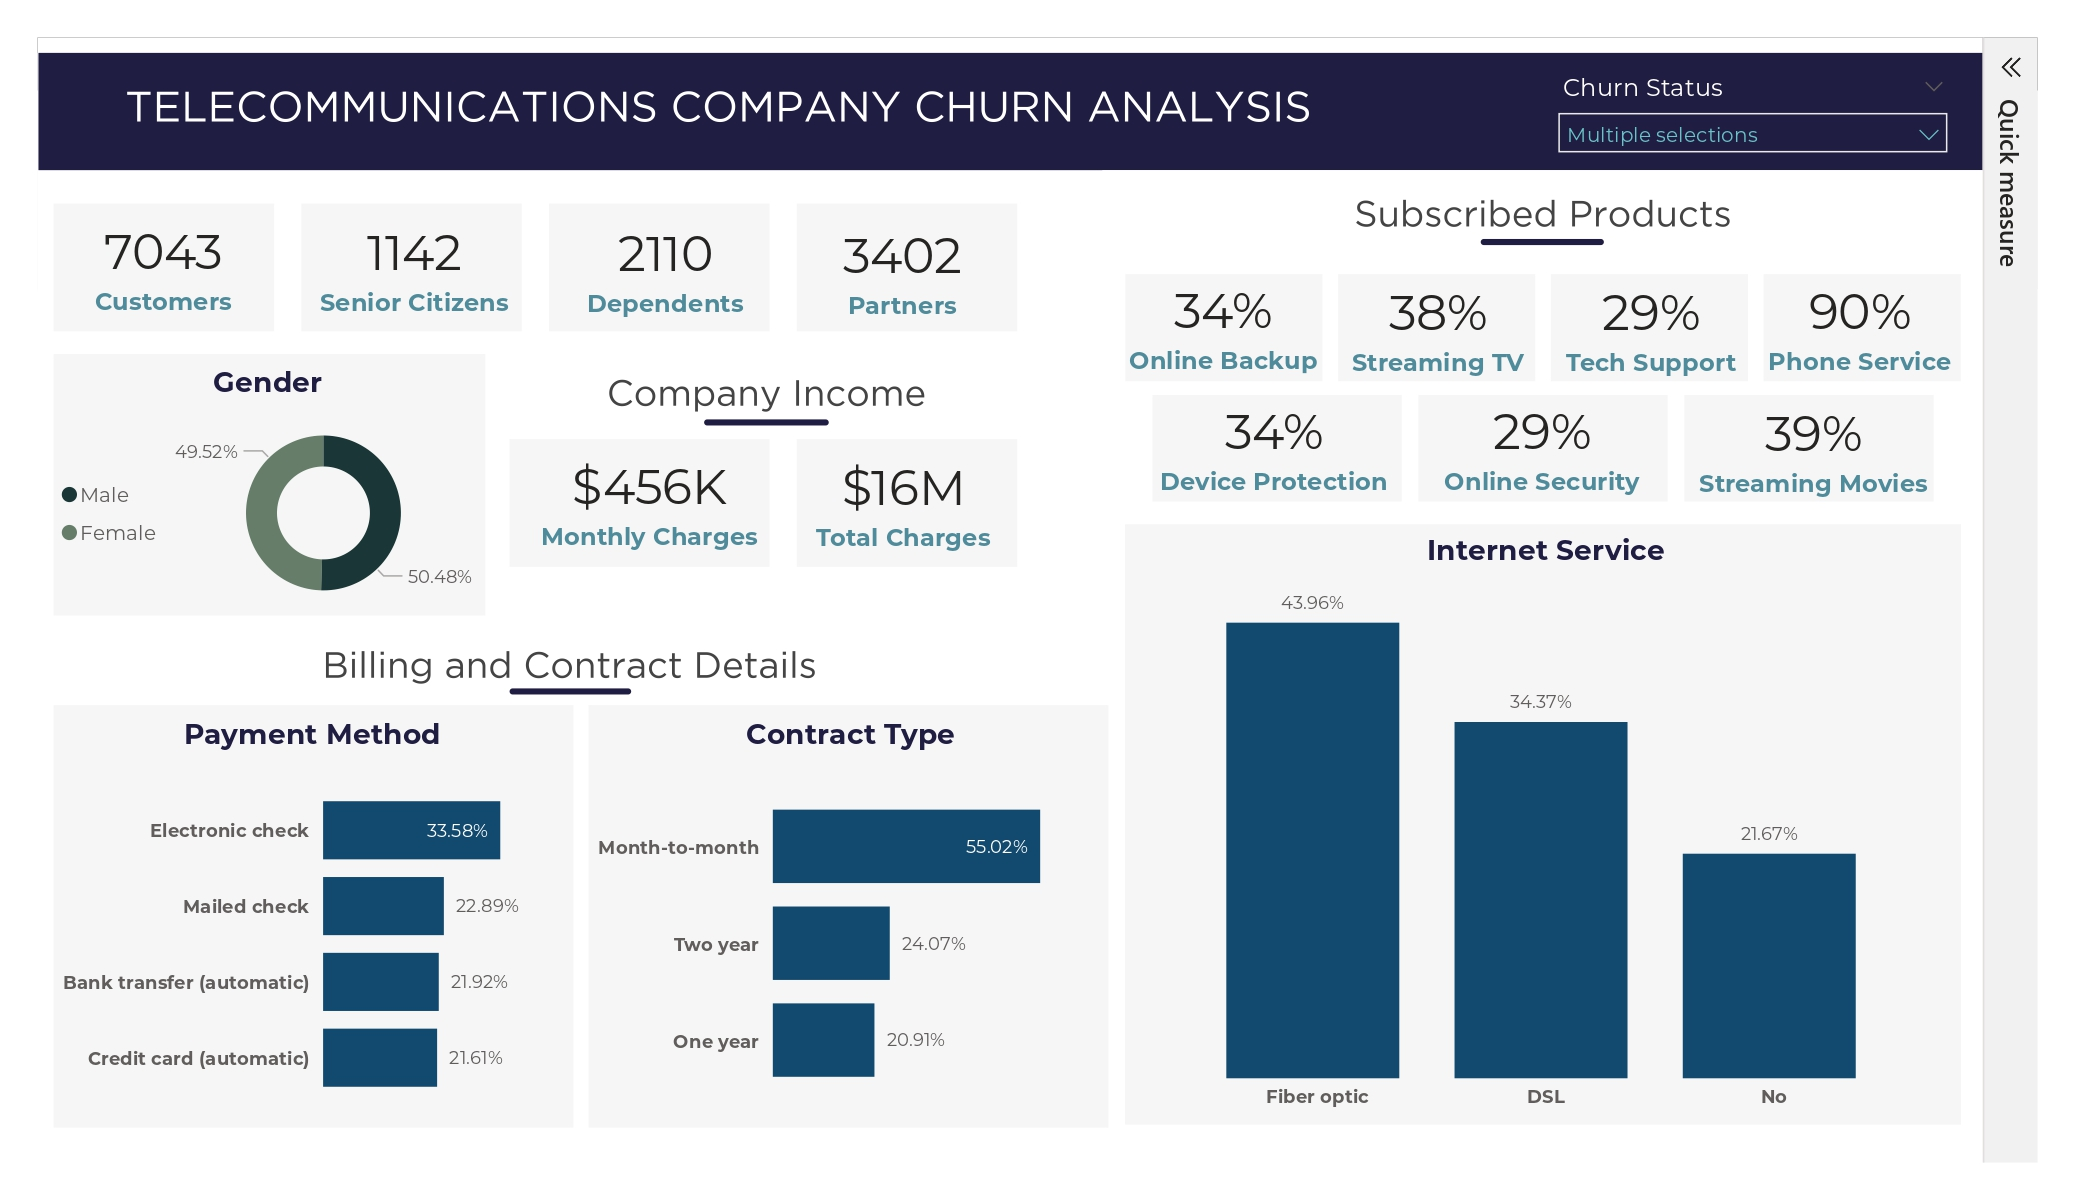

Layout of this report page (visuals, bound fields, positions):
{"tool":"powerbi","page":{"name":"Page 1","canvas":[1280,720],"ordinal":0},"visuals":[{"type":"card","fields":{"Values":["CountNonNull(Table1.customerID)"]},"box":[11.9,98.2,142.9,83.3],"z":0},{"type":"card","fields":{"Values":["Table1.Count of SeniorCitizen for true"]},"box":[172.9,97.8,150.2,85],"z":1000},{"type":"donutChart","title":"Gender","fields":{"Y":["CountNonNull(Table1.gender)"],"Category":["Table1.gender"]},"box":[9.9,198.4,283.5,178.6],"z":2000},{"type":"card","fields":{"Values":["Table1.%OnlineBackup"]},"box":[712.9,141.7,134.6,73.7],"z":4000},{"type":"card","fields":{"Values":["Table1.%OnlineSecurity"]},"box":[928.3,219.7,153.1,76.5],"z":5000},{"type":"card","fields":{"Values":["Table1.%StreamingTV"]},"box":[857.3,141.4,128,76],"z":6000},{"type":"card","fields":{"Values":["Table1.%DeviceProtection"]},"box":[759.7,219.7,161.6,76.5],"z":7000},{"type":"card","fields":{"Values":["Table1.%StreamingMovies"]},"box":[1082.8,221.1,165.8,76.5],"z":8000},{"type":"card","fields":{"Values":["Table1.%TechSupport"]},"box":[997.2,141.4,128,75.9],"z":9000},{"type":"card","fields":{"Values":["Table1.%PhoneService"]},"box":[1131,141.7,136.1,75.1],"z":10000},{"type":"card","fields":{"Values":["Table1.Count of Partner for Yes"]},"box":[496.1,100.6,146,83.6],"z":11000},{"type":"card","fields":{"Values":["Table1.Count of Dependents for Yes"]},"box":[341.6,99.2,143.1,83.6],"z":12000},{"type":"clusteredColumnChart","title":"Internet Service","fields":{"Category":["Table1.InternetService"],"Y":["Divide(CountNonNull(Table1.InternetService), ScopedEval(CountNonNull(Table1.InternetService), []))"]},"box":[716.5,308.9,550.6,394.7],"z":13000},{"type":"clusteredBarChart","title":"Contract Type","fields":{"Category":["Table1.Contract"],"Y":["CountNonNull(Table1.Contract)"]},"box":[363.3,429.1,344.7,277.5],"z":14000},{"type":"clusteredBarChart","title":"Payment Method","fields":{"Category":["Table1.PaymentMethod"],"Y":["CountNonNull(Table1.PaymentMethod)"]},"box":[10,429.1,341.8,277.5],"z":15000},{"type":"card","fields":{"Values":["Sum(Table1.MonthlyCharges)"]},"box":[321.7,253.7,161.6,80.8],"z":16000},{"type":"card","fields":{"Values":["Sum(Table1.TotalCharges)"]},"box":[497.5,253.7,144.6,82.2],"z":17000},{"type":"slicer","fields":{"Values":["Table1.Churn Status"]},"box":[966,8.9,300.7,64],"z":17001}]}

Visuals, with their boxes on the page's 1280x720 design canvas (x1, y1, x2, y2). These are canvas units, not pixel positions in the 2075x1200 screenshot, which may show the page scaled, cropped or inside an application window:
card - CountNonNull(Table1.customerID): l=12, t=98, r=155, b=182
card - Table1.Count of SeniorCitizen for true: l=173, t=98, r=323, b=183
"Gender" donutChart: l=10, t=198, r=293, b=377
card - Table1.%OnlineBackup: l=713, t=142, r=848, b=215
card - Table1.%OnlineSecurity: l=928, t=220, r=1081, b=296
card - Table1.%StreamingTV: l=857, t=141, r=985, b=217
card - Table1.%DeviceProtection: l=760, t=220, r=921, b=296
card - Table1.%StreamingMovies: l=1083, t=221, r=1249, b=298
card - Table1.%TechSupport: l=997, t=141, r=1125, b=217
card - Table1.%PhoneService: l=1131, t=142, r=1267, b=217
card - Table1.Count of Partner for Yes: l=496, t=101, r=642, b=184
card - Table1.Count of Dependents for Yes: l=342, t=99, r=485, b=183
"Internet Service" clusteredColumnChart: l=716, t=309, r=1267, b=704
"Contract Type" clusteredBarChart: l=363, t=429, r=708, b=707
"Payment Method" clusteredBarChart: l=10, t=429, r=352, b=707
card - Sum(Table1.MonthlyCharges): l=322, t=254, r=483, b=334
card - Sum(Table1.TotalCharges): l=498, t=254, r=642, b=336
slicer - Table1.Churn Status: l=966, t=9, r=1267, b=73
